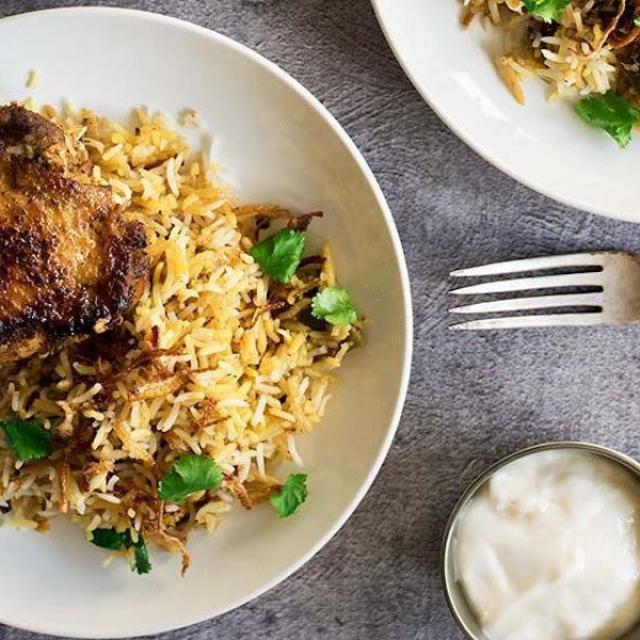chicken biryani: (3, 48, 309, 572)
